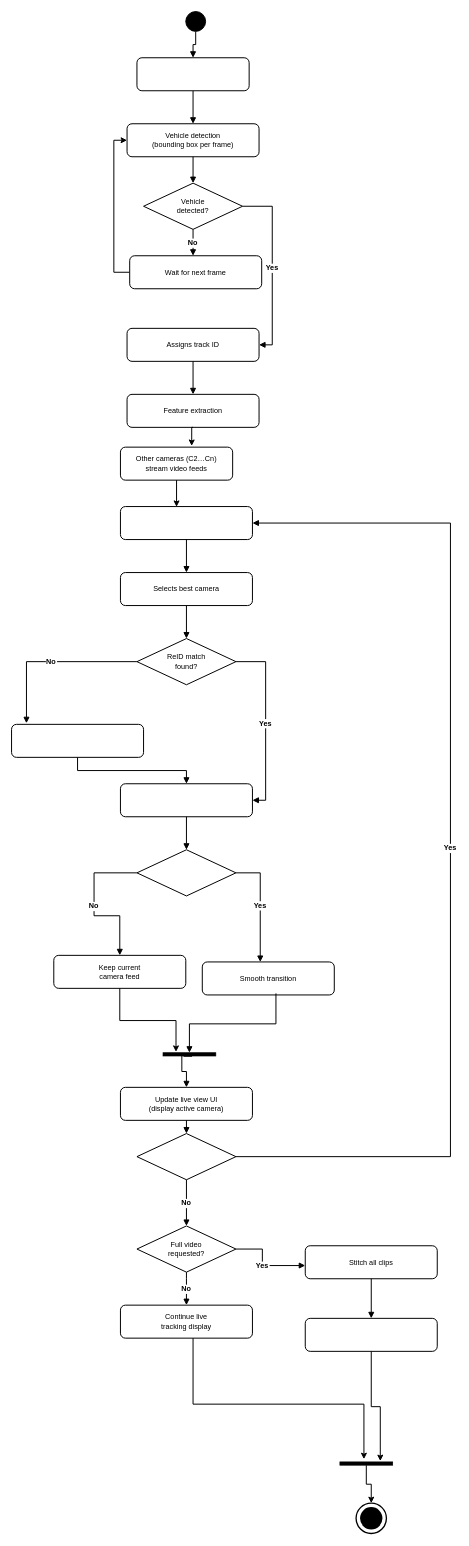
The diagram is 469 pixels wide and 1546 high, and some of its shapes have lost their labels. Each missing label, with the box of its shape:
Assign global vehicle ID (matched car): (120, 783, 253, 817)
Assign new global vehicle ID: (11, 724, 144, 758)
Camera C1 captures video feed: (136, 57, 249, 91)
Car still in network?: (136, 1133, 236, 1180)
Score all active cameras: (120, 506, 253, 540)
Send compiled video via email: (304, 1318, 437, 1352)
Switch camera?: (136, 849, 236, 896)
